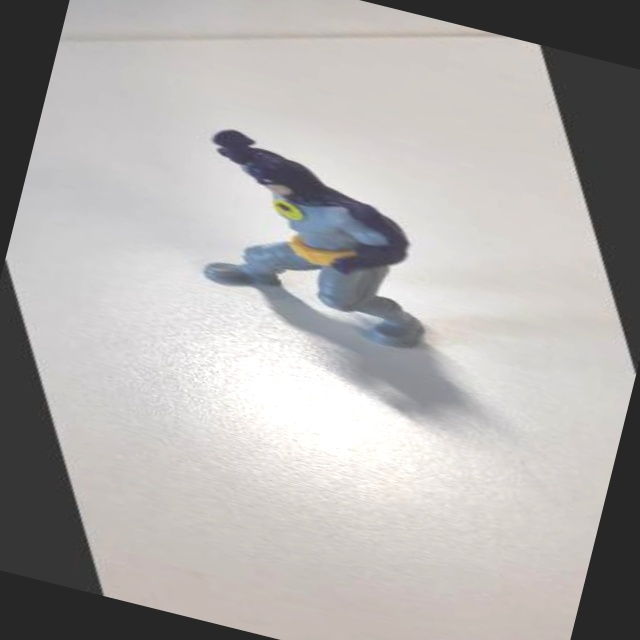Batman: (106, 75, 513, 389)
